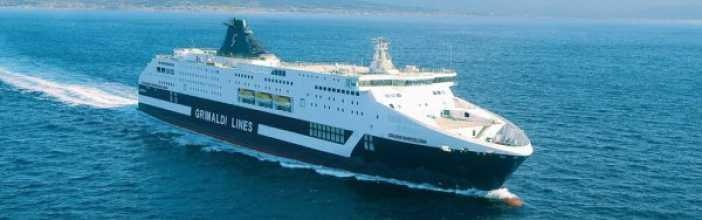youlun: (135, 17, 538, 192)
